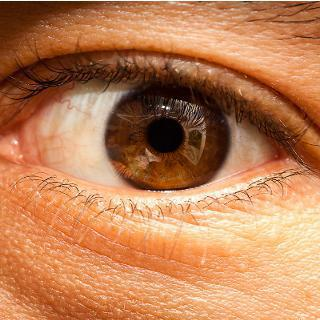iris: (101, 69, 231, 198)
